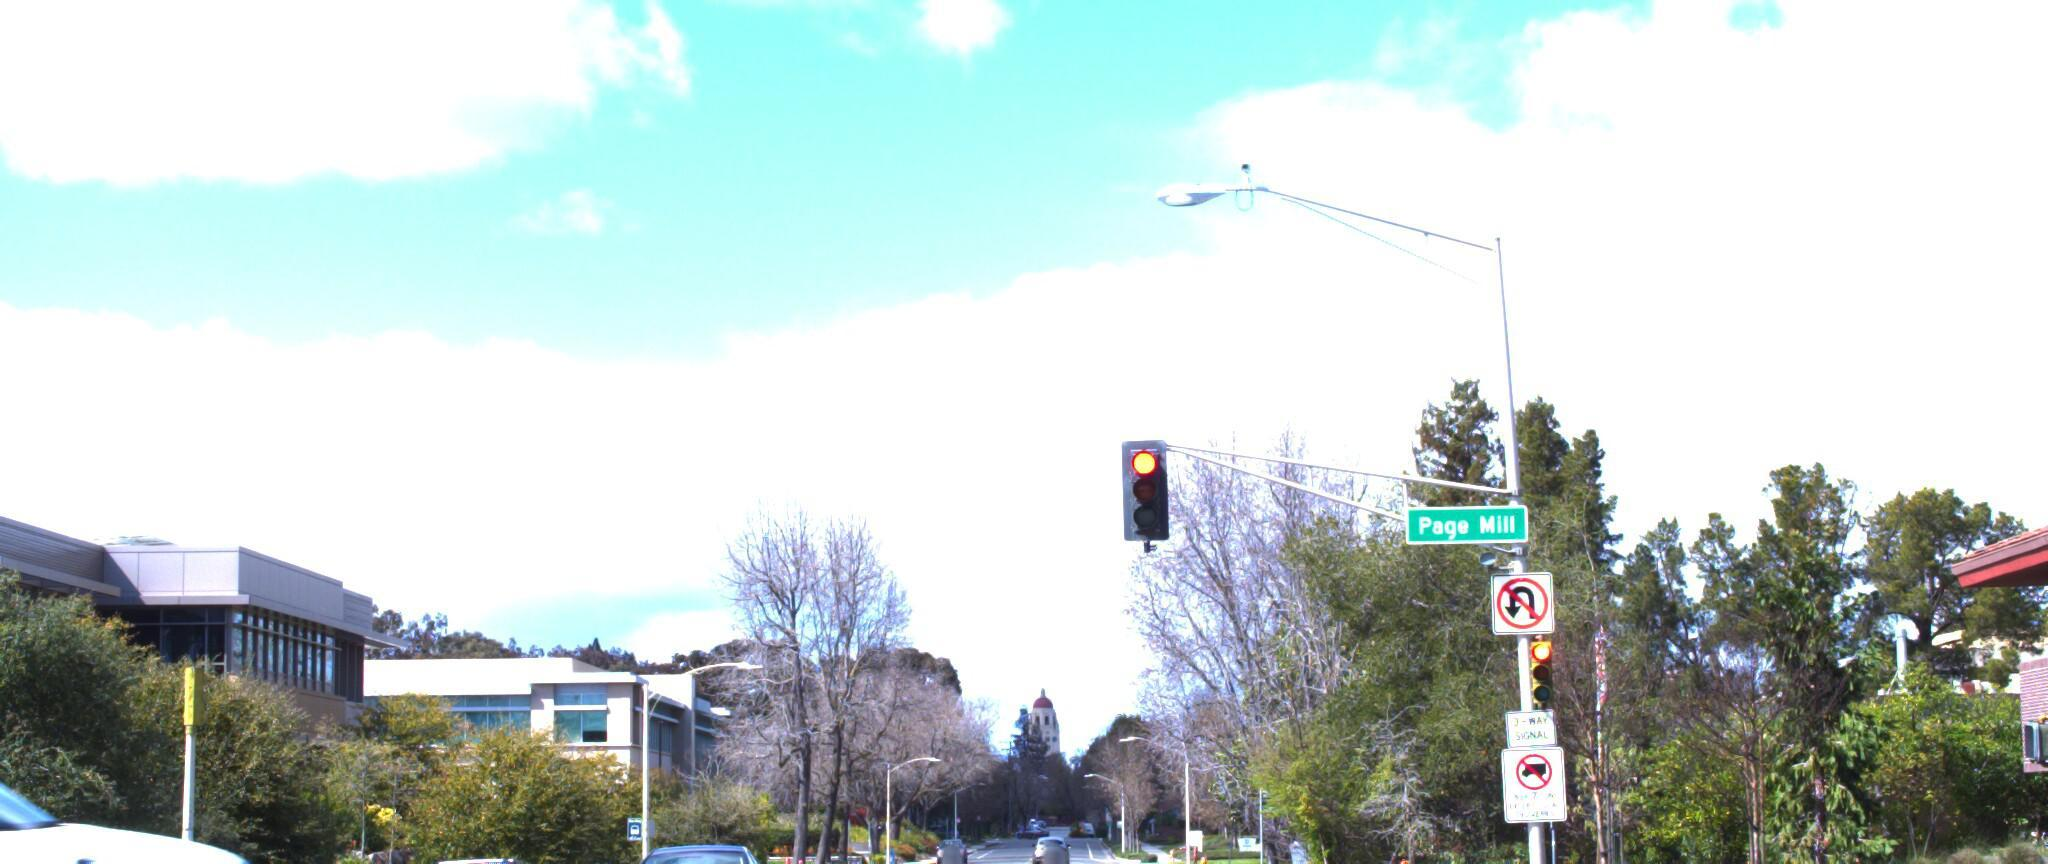car: (0, 703, 338, 864), (583, 839, 795, 864), (370, 854, 586, 864)
